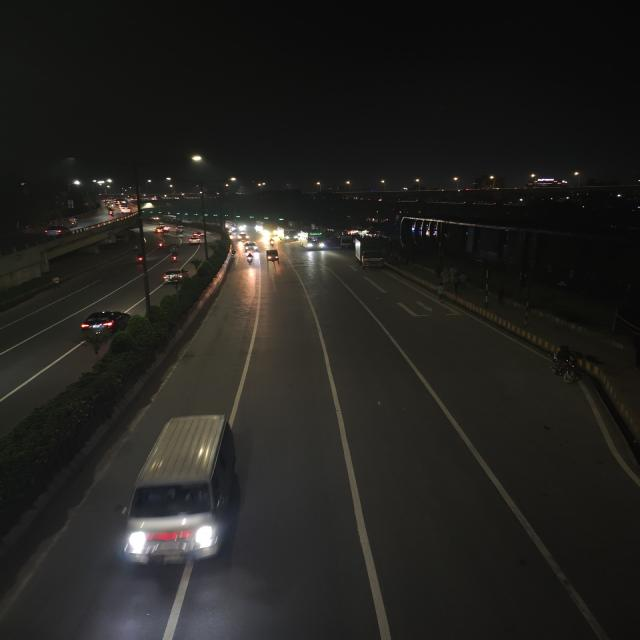bus: (302, 228, 327, 250), (279, 226, 300, 243)
car: (118, 410, 257, 578), (76, 308, 132, 346), (161, 267, 190, 285), (43, 225, 67, 238), (188, 232, 204, 244), (242, 241, 259, 252), (155, 225, 170, 235)
cng: (264, 248, 282, 264)
motorcycle: (546, 344, 587, 386), (133, 250, 149, 265), (243, 251, 256, 265), (168, 251, 181, 264), (154, 240, 165, 250)
truck: (350, 237, 389, 270), (338, 233, 353, 249)
